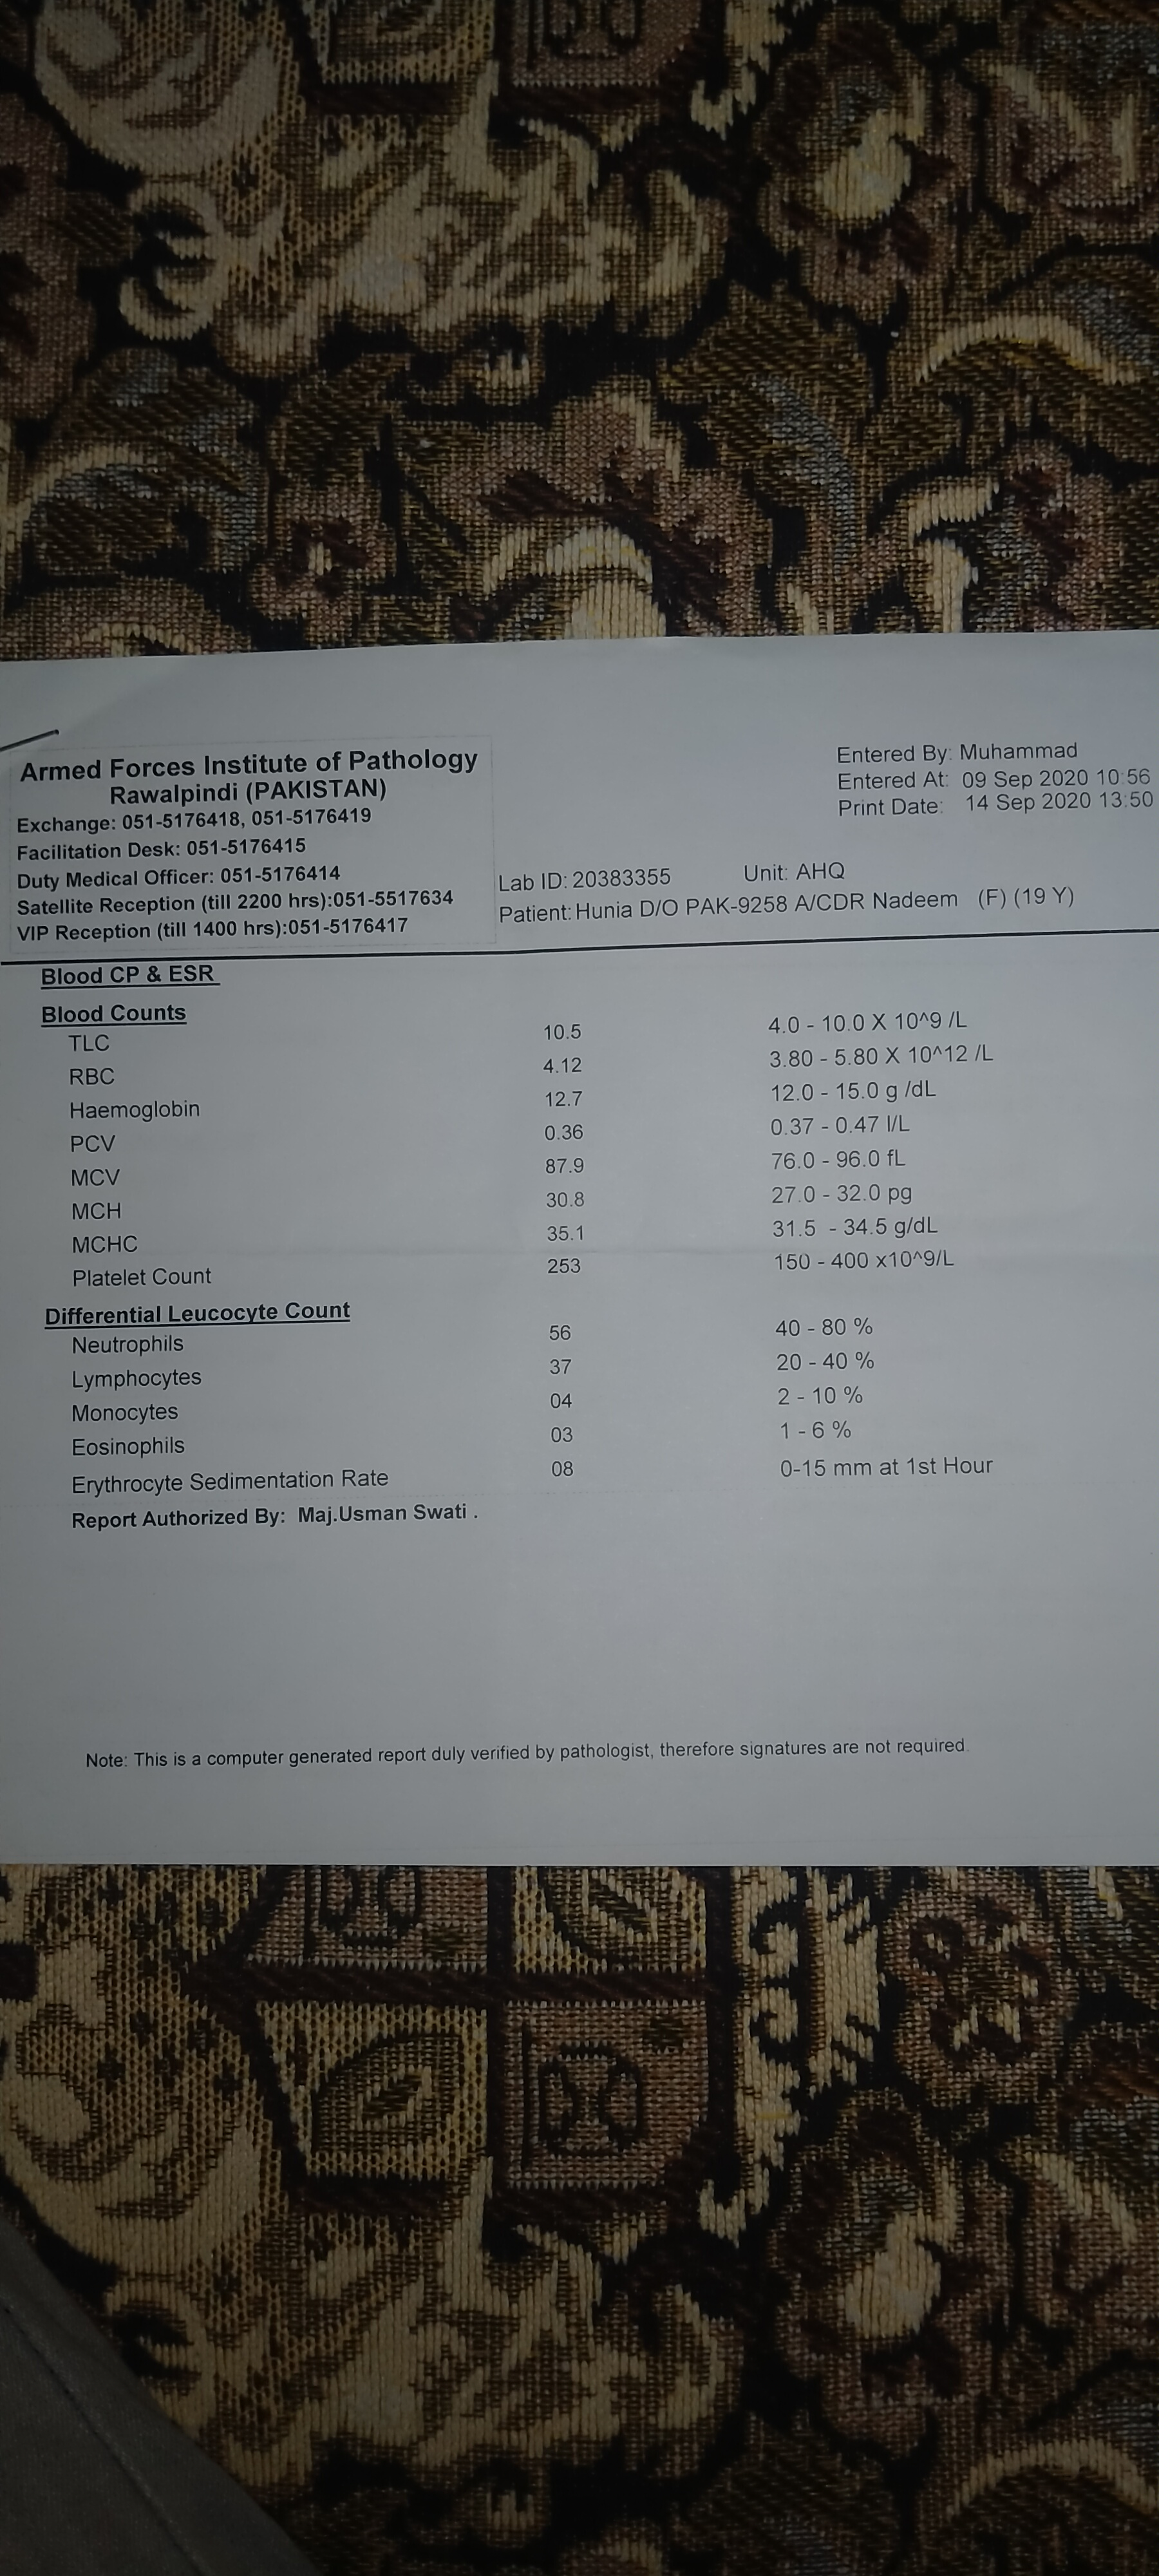report: (21, 958, 1108, 1566)
